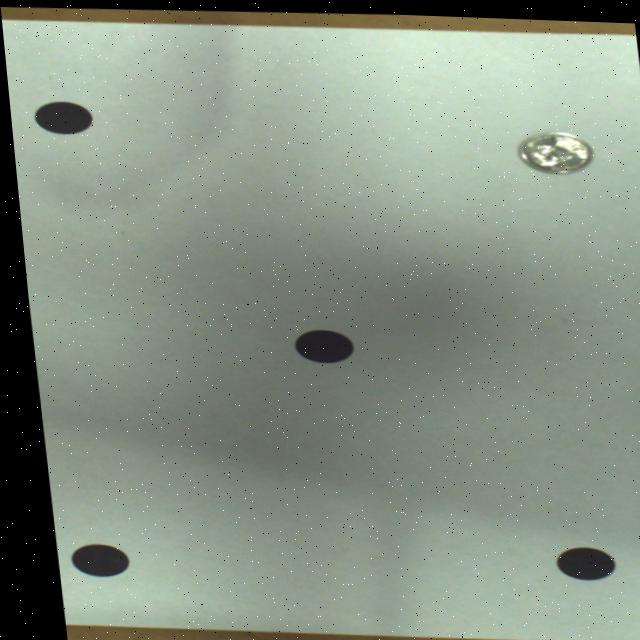head1bath: (516, 127, 588, 168)
space: (286, 326, 347, 360), (31, 100, 90, 133), (544, 542, 603, 574), (60, 542, 116, 575)
